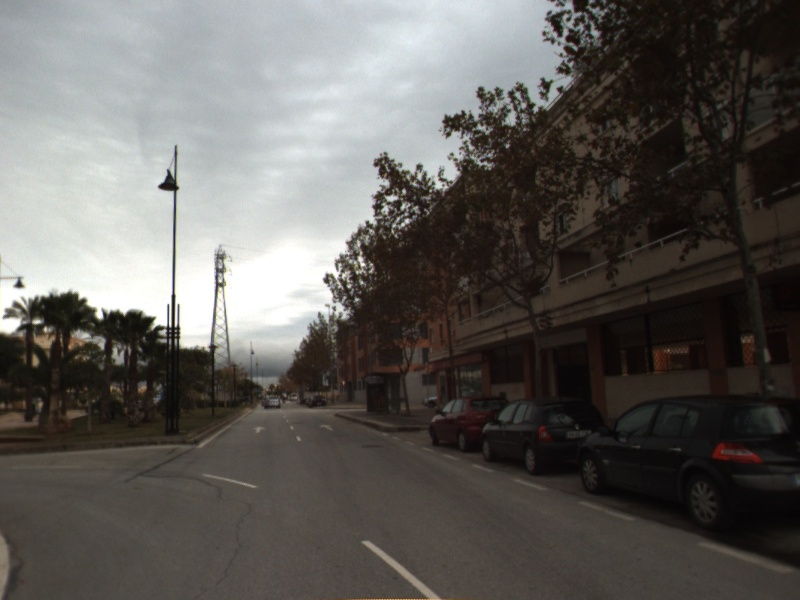STRAIGHT: (318, 421, 336, 433), (251, 424, 268, 435)
